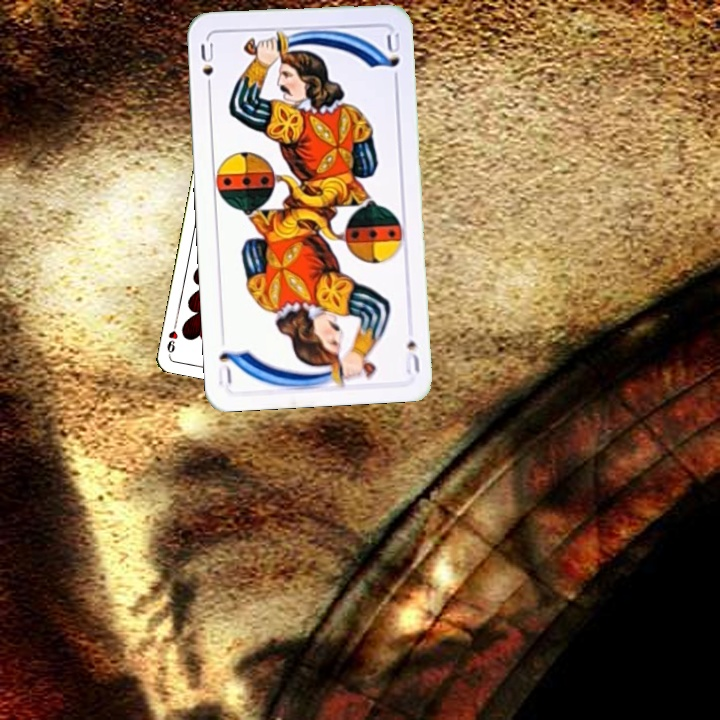SU: (196, 39, 216, 96), (401, 336, 423, 375)
